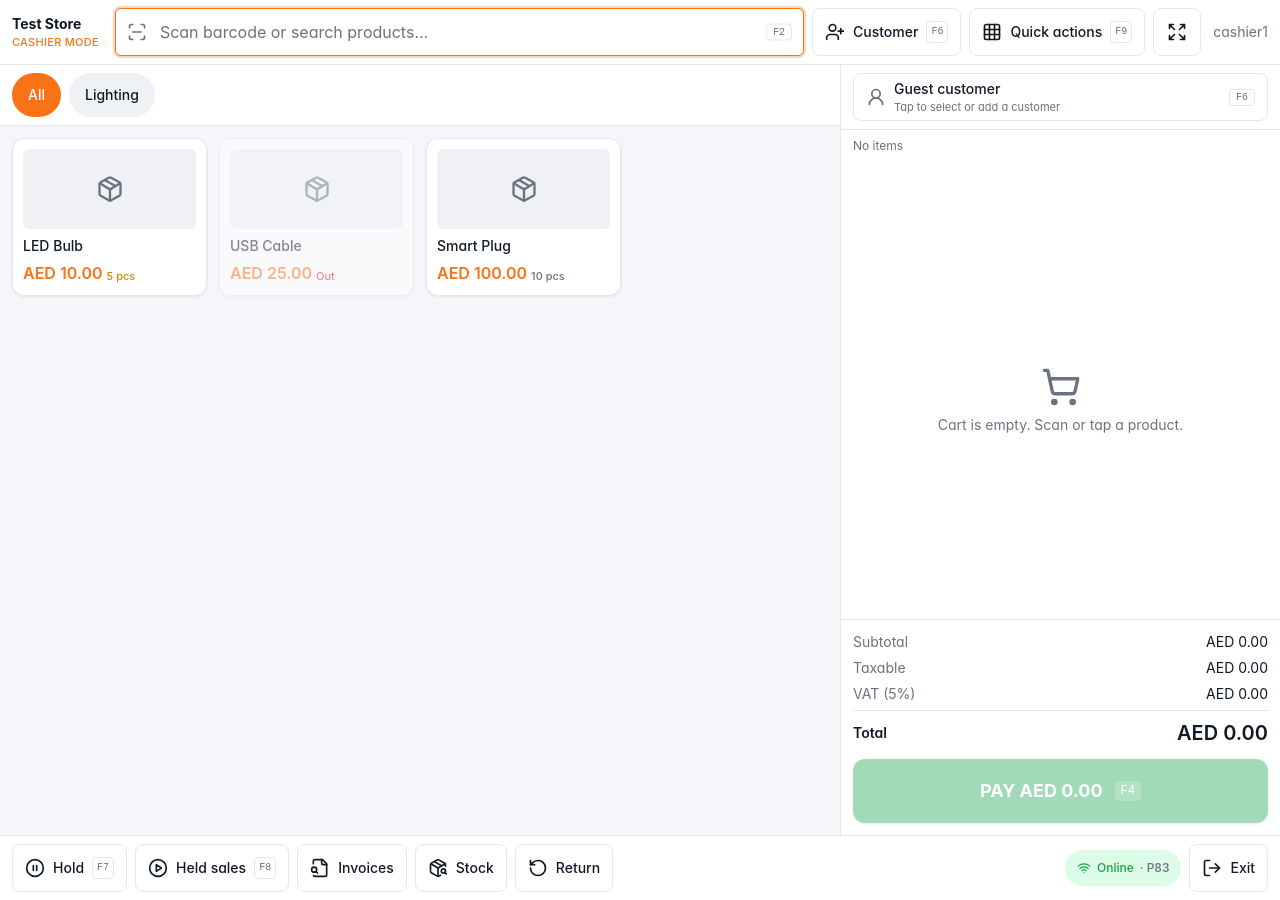
Cashier Mode — quick actions and permissions › quick-add customer: phone required, save & select keeps the cart
The width and height of the screenshot is (1280, 900).
Click the button with aria-label "Add LED Bulb": (110, 217) [12, 138, 207, 296]
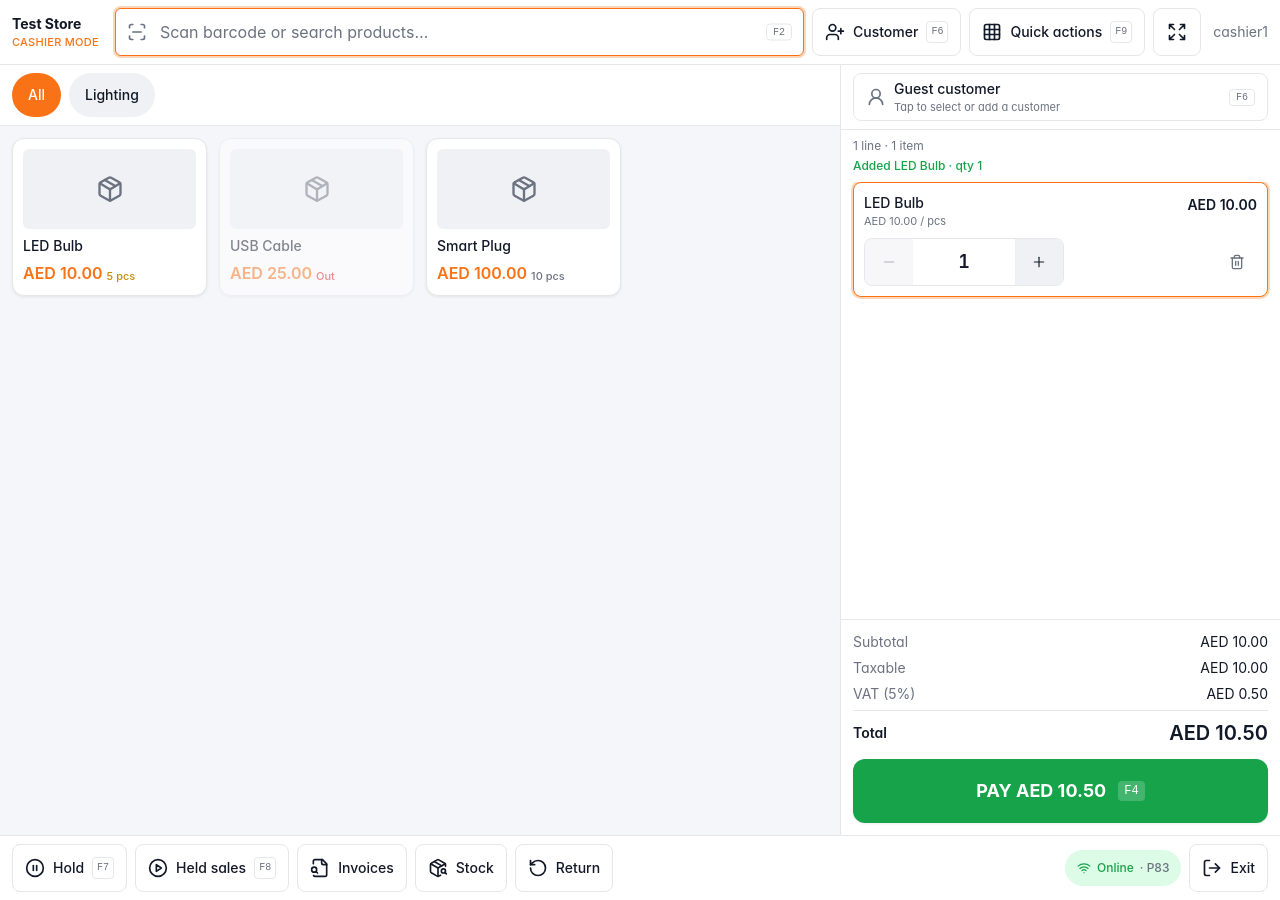
Press F6
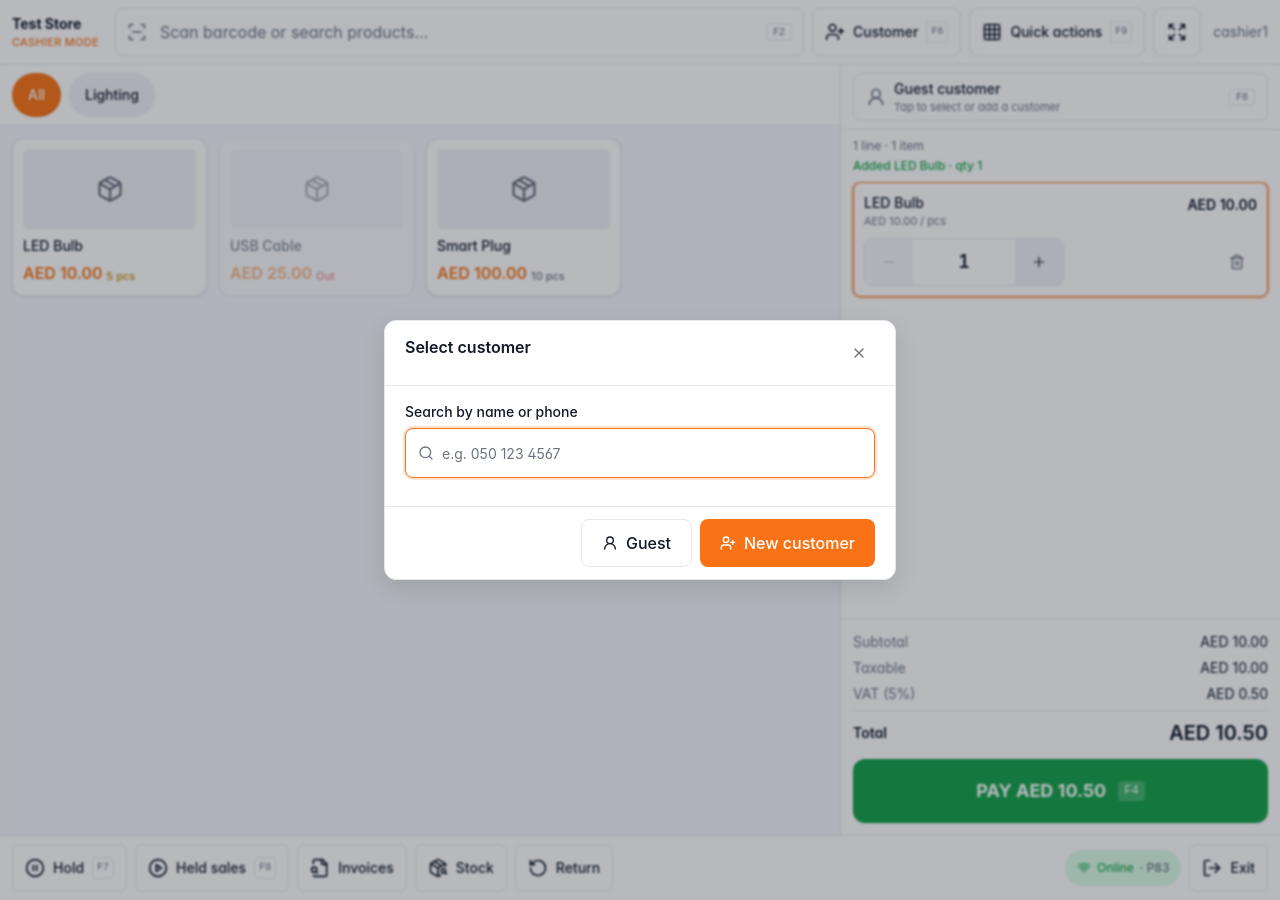
Click the button "New customer": (788, 543) [700, 519, 875, 567]
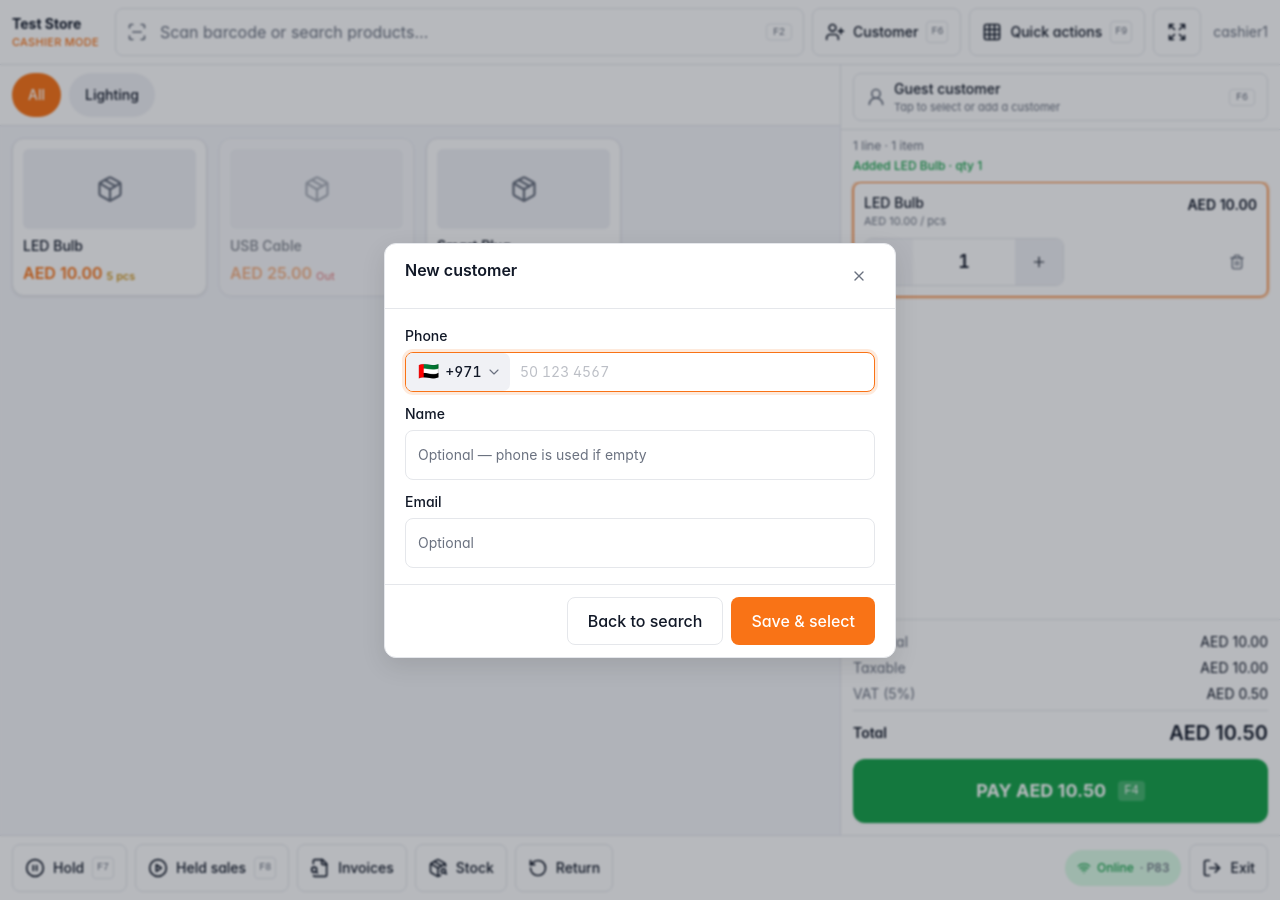
Click the button "Save & select": (803, 620) [731, 596, 875, 644]
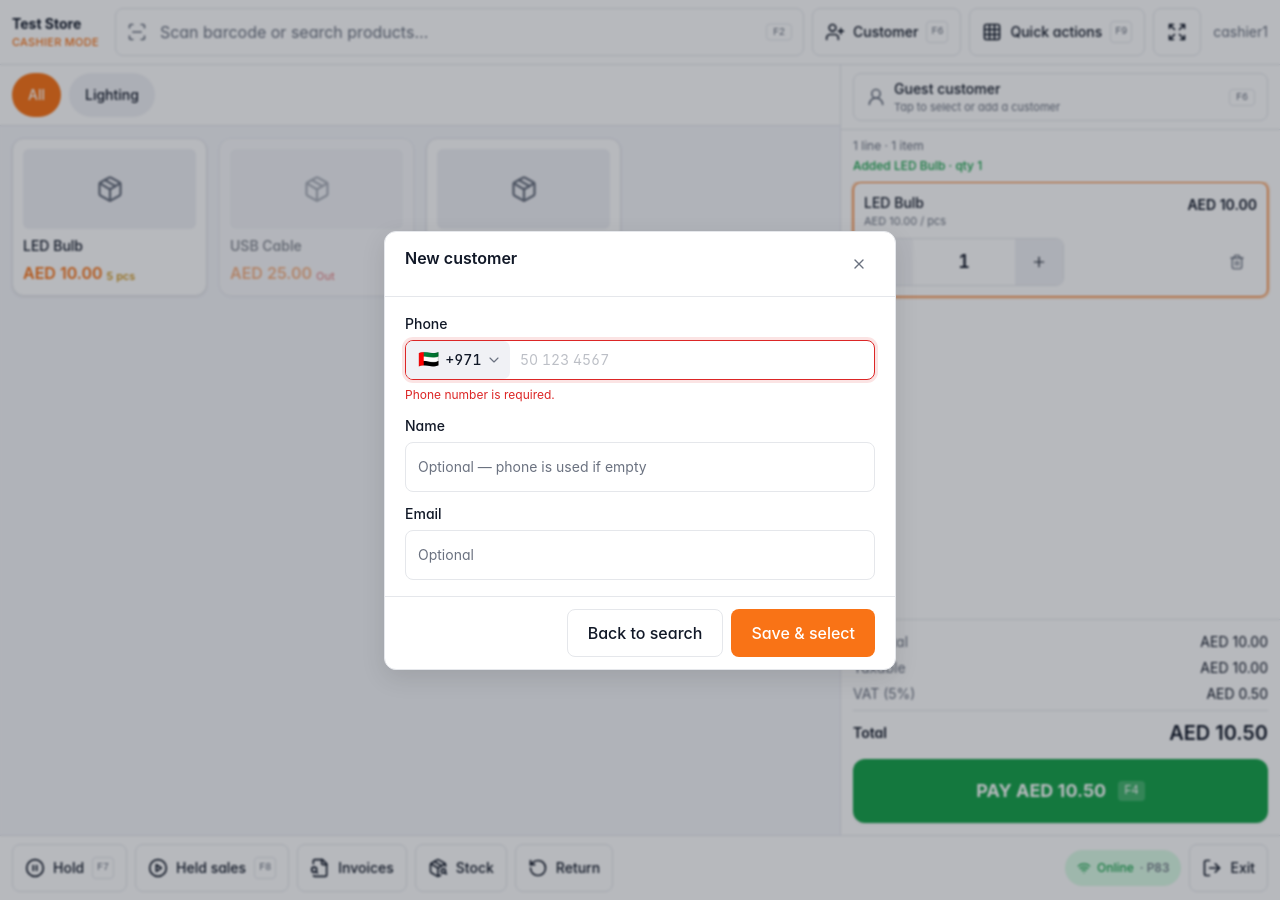
Expected: the text "Phone number is required." is shown, [405, 386, 555, 402]
In the field labelled "Phone": (692, 360) [510, 340, 874, 378], type "0501234567"
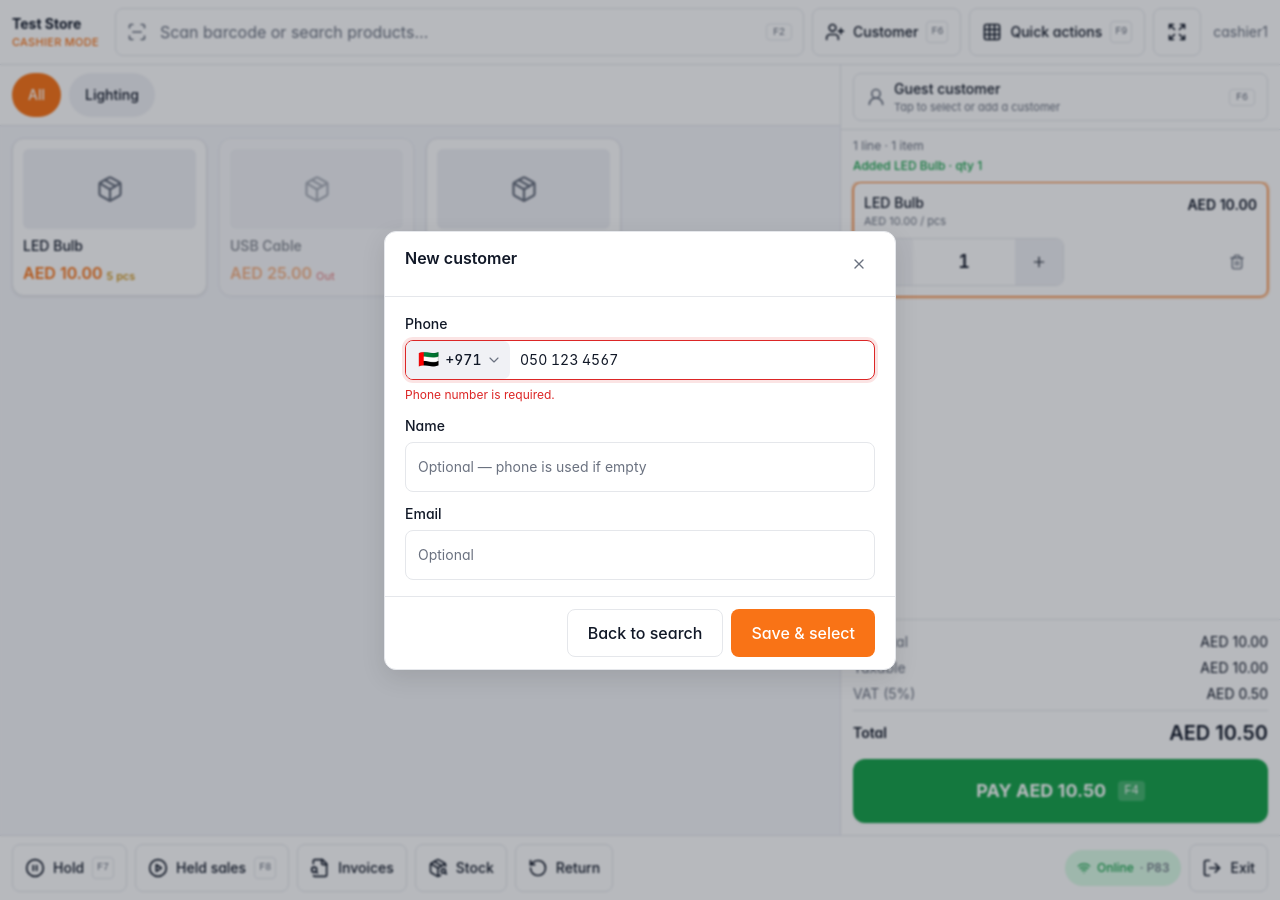
Click the button "Save & select": (803, 632) [731, 608, 875, 656]
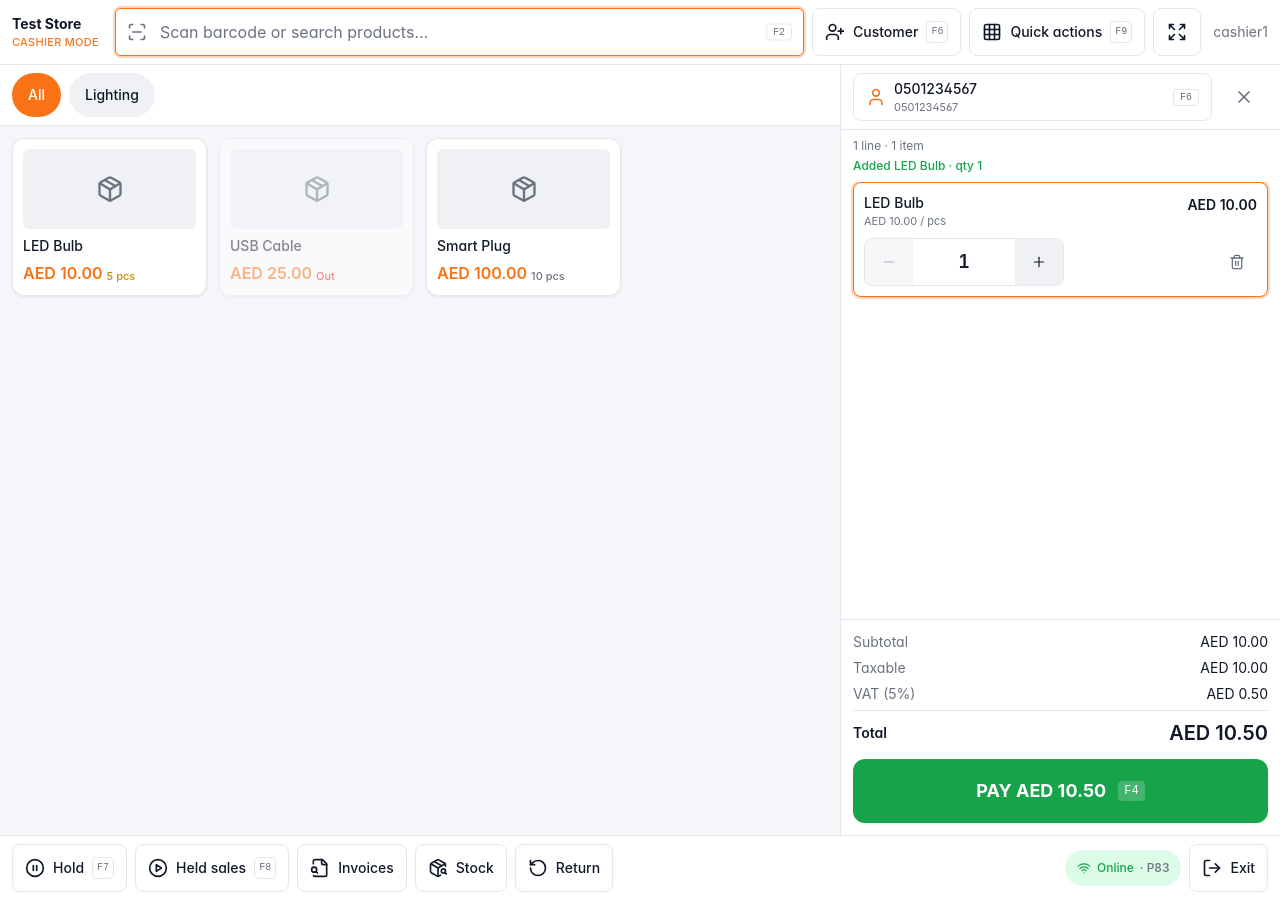
Expected: the text "LED Bulb" below "Added LED Bulb · qty 1" is shown, [864, 194, 924, 211]
Expected: the dialog is gone
